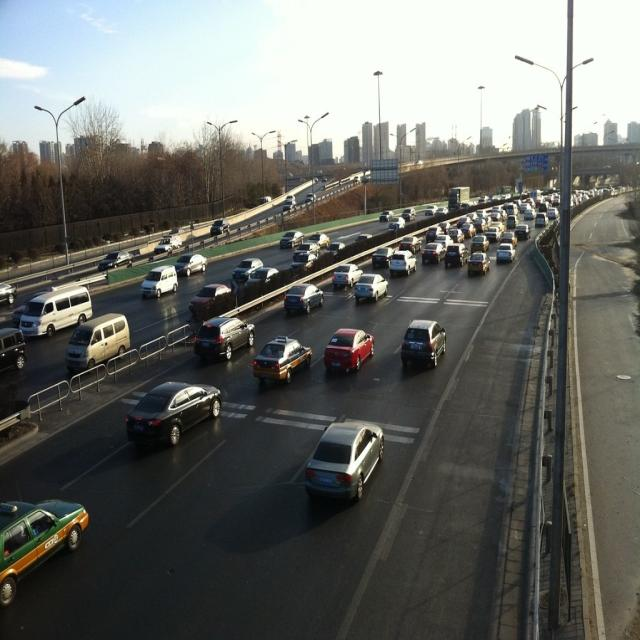Carro Azul Escuro: (280, 281, 328, 321)
Carro Branco: (140, 262, 180, 301), (353, 268, 392, 305)
Carro Cinza: (301, 416, 389, 503)
Carro Preto: (122, 377, 230, 455), (192, 312, 259, 368), (397, 318, 452, 372), (0, 322, 28, 382)
Carro Vermelho: (321, 326, 378, 383), (190, 282, 234, 327)
Taxi: (0, 486, 96, 616), (257, 329, 316, 391)
Van Branca: (21, 284, 95, 339)
Van Prata: (64, 310, 133, 375)
